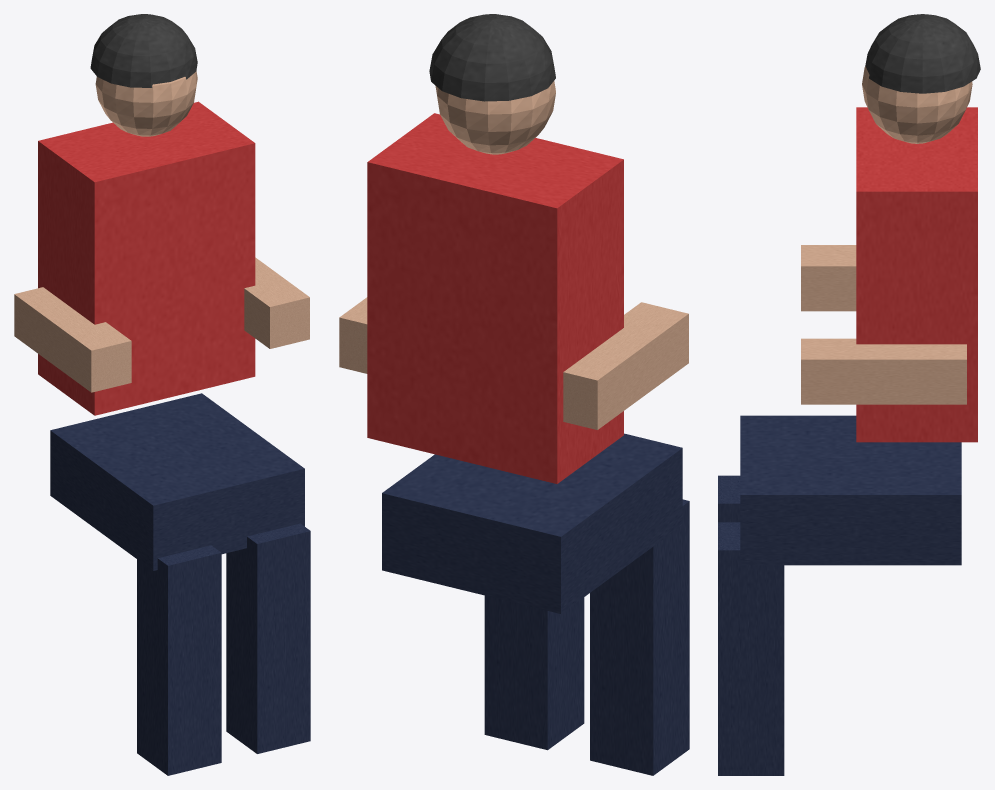
Rendered from Espectador0.obj.
3 renders of one model, left to right at view 1: azimuth 30°, elevation 25°; view 2: azimuth 150°, elevation 25°; view 3: azimuth 270°, elevation 25°, orthographic. The views are drawn at different scales.
Size of the model in its own units: 0.49 by 1.43 by 0.475.
Materials: 1 (1 with a texture image).
